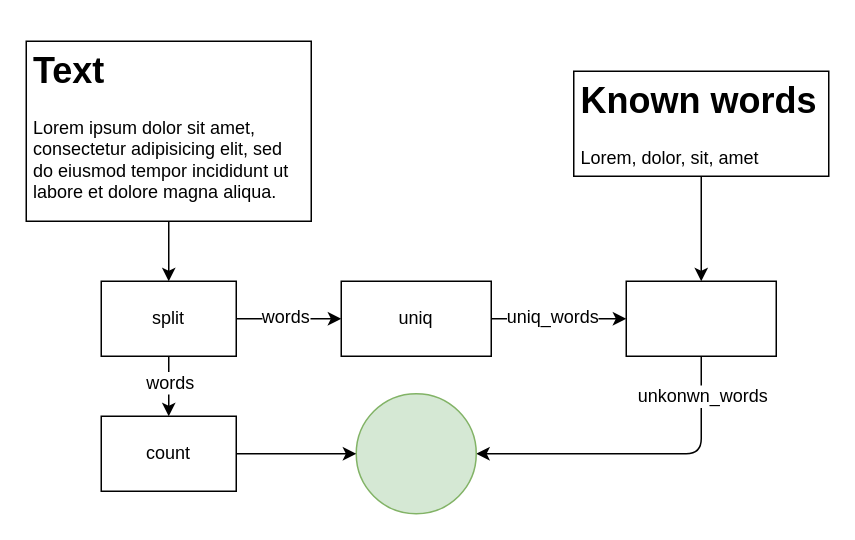
Some shapes in this 855 by 540 pixel diagram are drawn without their labels. The shapes that lost their labels are listed below. From the top down, each one's box as (x1, y1, x2, y2) in pixels, then its label:
(625, 280, 776, 356): compare
(355, 392, 476, 514): Words with frequency counter
